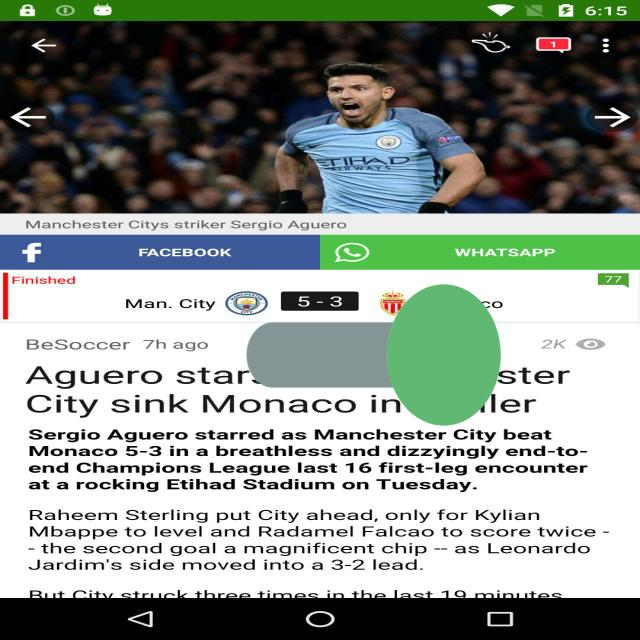social proof: (247, 197, 500, 513)
